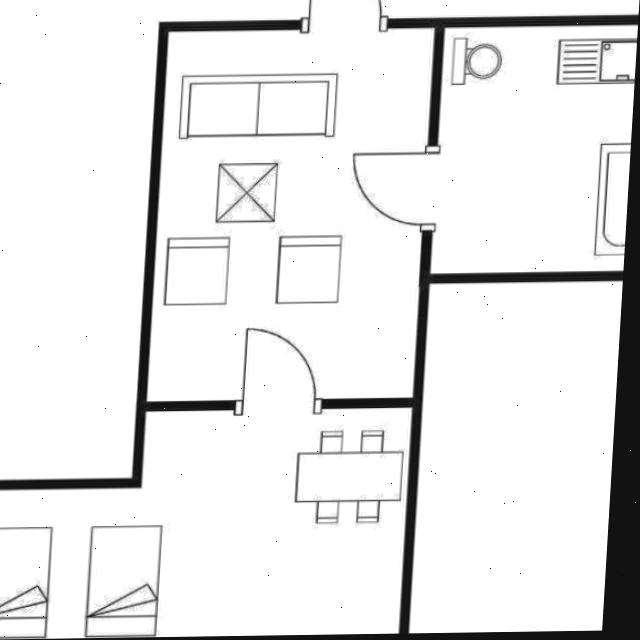room: (147, 12, 435, 417), (0, 408, 415, 639), (430, 13, 638, 285)
